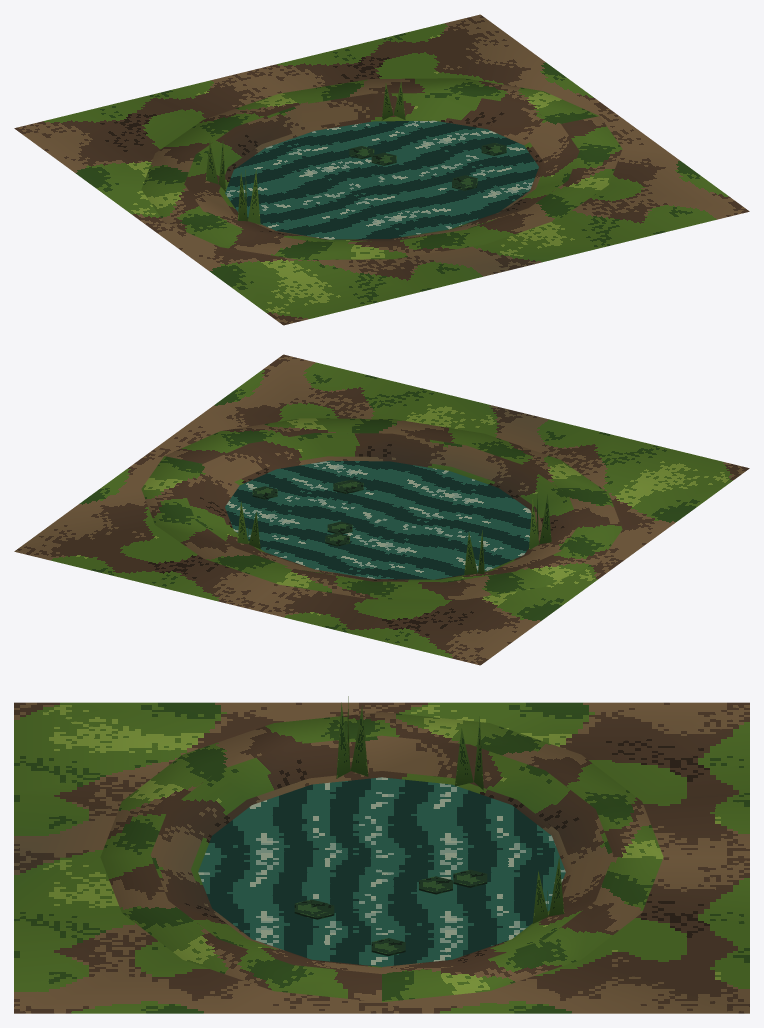
Rendered from wild.oasis__jungle.glb.
The picture shows the model from 3 angles, top to bottom: view 1: azimuth 30°, elevation 25°; view 2: azimuth 150°, elevation 25°; view 3: azimuth 270°, elevation 25°; orthographic projection. The views are drawn at different scales.
Parts seen in each view (by area): view 1: kit_shell_skirt, kit_bank, kit_shell_water, kit_shell_reeds, kit_pads; view 2: kit_shell_skirt, kit_bank, kit_shell_water, kit_shell_reeds, kit_pads; view 3: kit_shell_skirt, kit_bank, kit_shell_water, kit_shell_reeds, kit_pads.
Part boxes in pixels (box(x1,y1,x2,y2)): kit_shell_skirt: box(14, 14, 749, 325); kit_bank: box(141, 78, 622, 259); kit_shell_water: box(225, 120, 538, 239); kit_shell_reeds: box(205, 81, 405, 224); kit_pads: box(349, 143, 506, 190); kit_shell_skirt: box(14, 354, 749, 665); kit_bank: box(141, 418, 622, 599); kit_shell_water: box(225, 460, 538, 579); kit_shell_reeds: box(237, 493, 551, 575); kit_pads: box(252, 480, 363, 546); kit_shell_skirt: box(14, 702, 749, 1013); kit_bank: box(100, 712, 663, 1002); kit_shell_water: box(198, 777, 565, 966); kit_shell_reeds: box(336, 696, 564, 923); kit_pads: box(294, 869, 487, 956).
Bounding box in the file's own units: 12 × 1.46 × 12.
4 materials, 4 textured.
